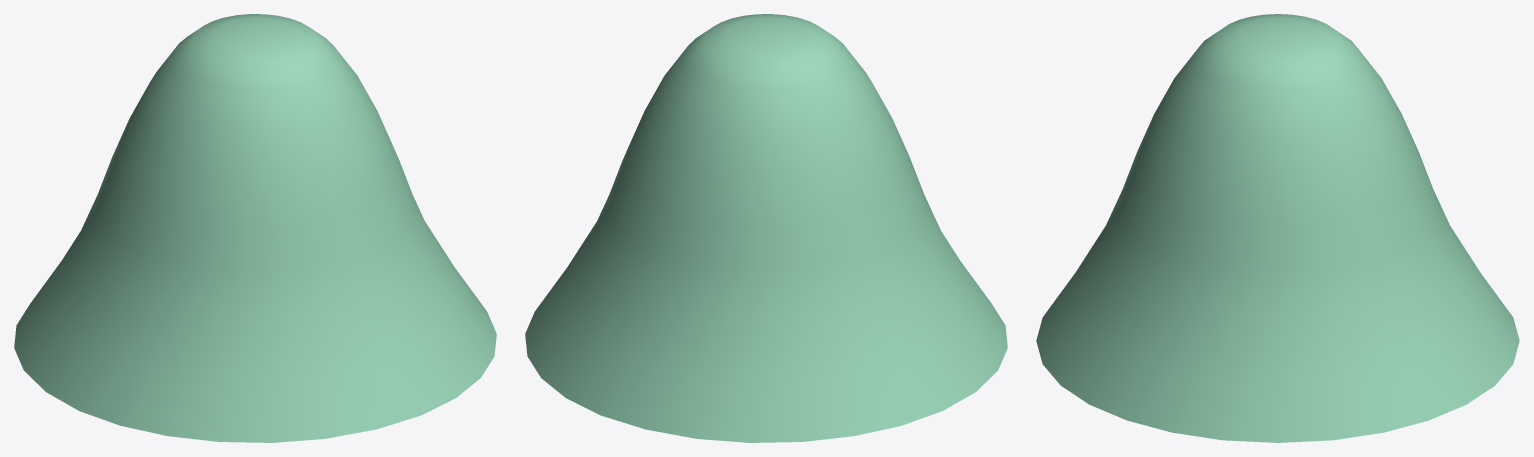
File: BlueSky_Mountain.FBX
The picture shows the model from 3 angles, left to right: view 1: azimuth 30°, elevation 25°; view 2: azimuth 150°, elevation 25°; view 3: azimuth 270°, elevation 25°; orthographic projection.
Visible parts, largest first — view 1: Mountain; view 2: Mountain; view 3: Mountain.
Part boxes in pixels (x1=…): Mountain: x1=14, y1=14, x2=496, y2=442; Mountain: x1=525, y1=14, x2=1007, y2=442; Mountain: x1=1036, y1=14, x2=1519, y2=442.
Size of the model in its own units: 7558 by 5353 by 7558.
